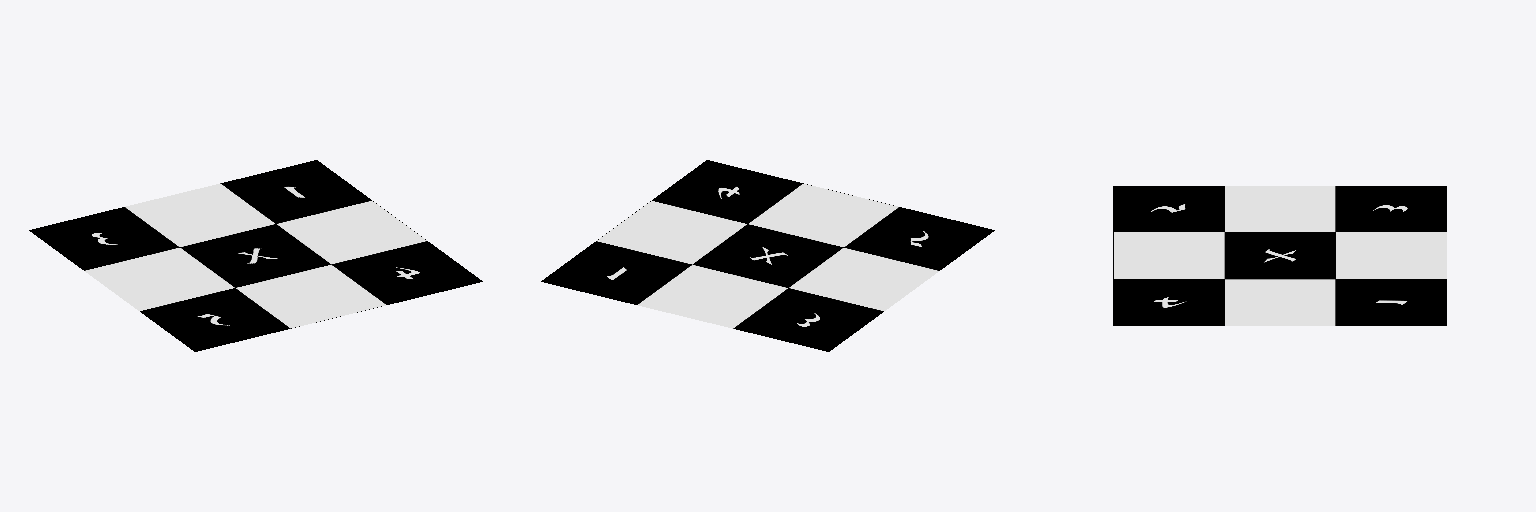
3 renders of one model, left to right at view 1: azimuth 30°, elevation 25°; view 2: azimuth 150°, elevation 25°; view 3: azimuth 270°, elevation 25°, orthographic.
Size of the model in its own units: 1000 by 0 by 1000.
Materials: 1 (1 with a texture image).